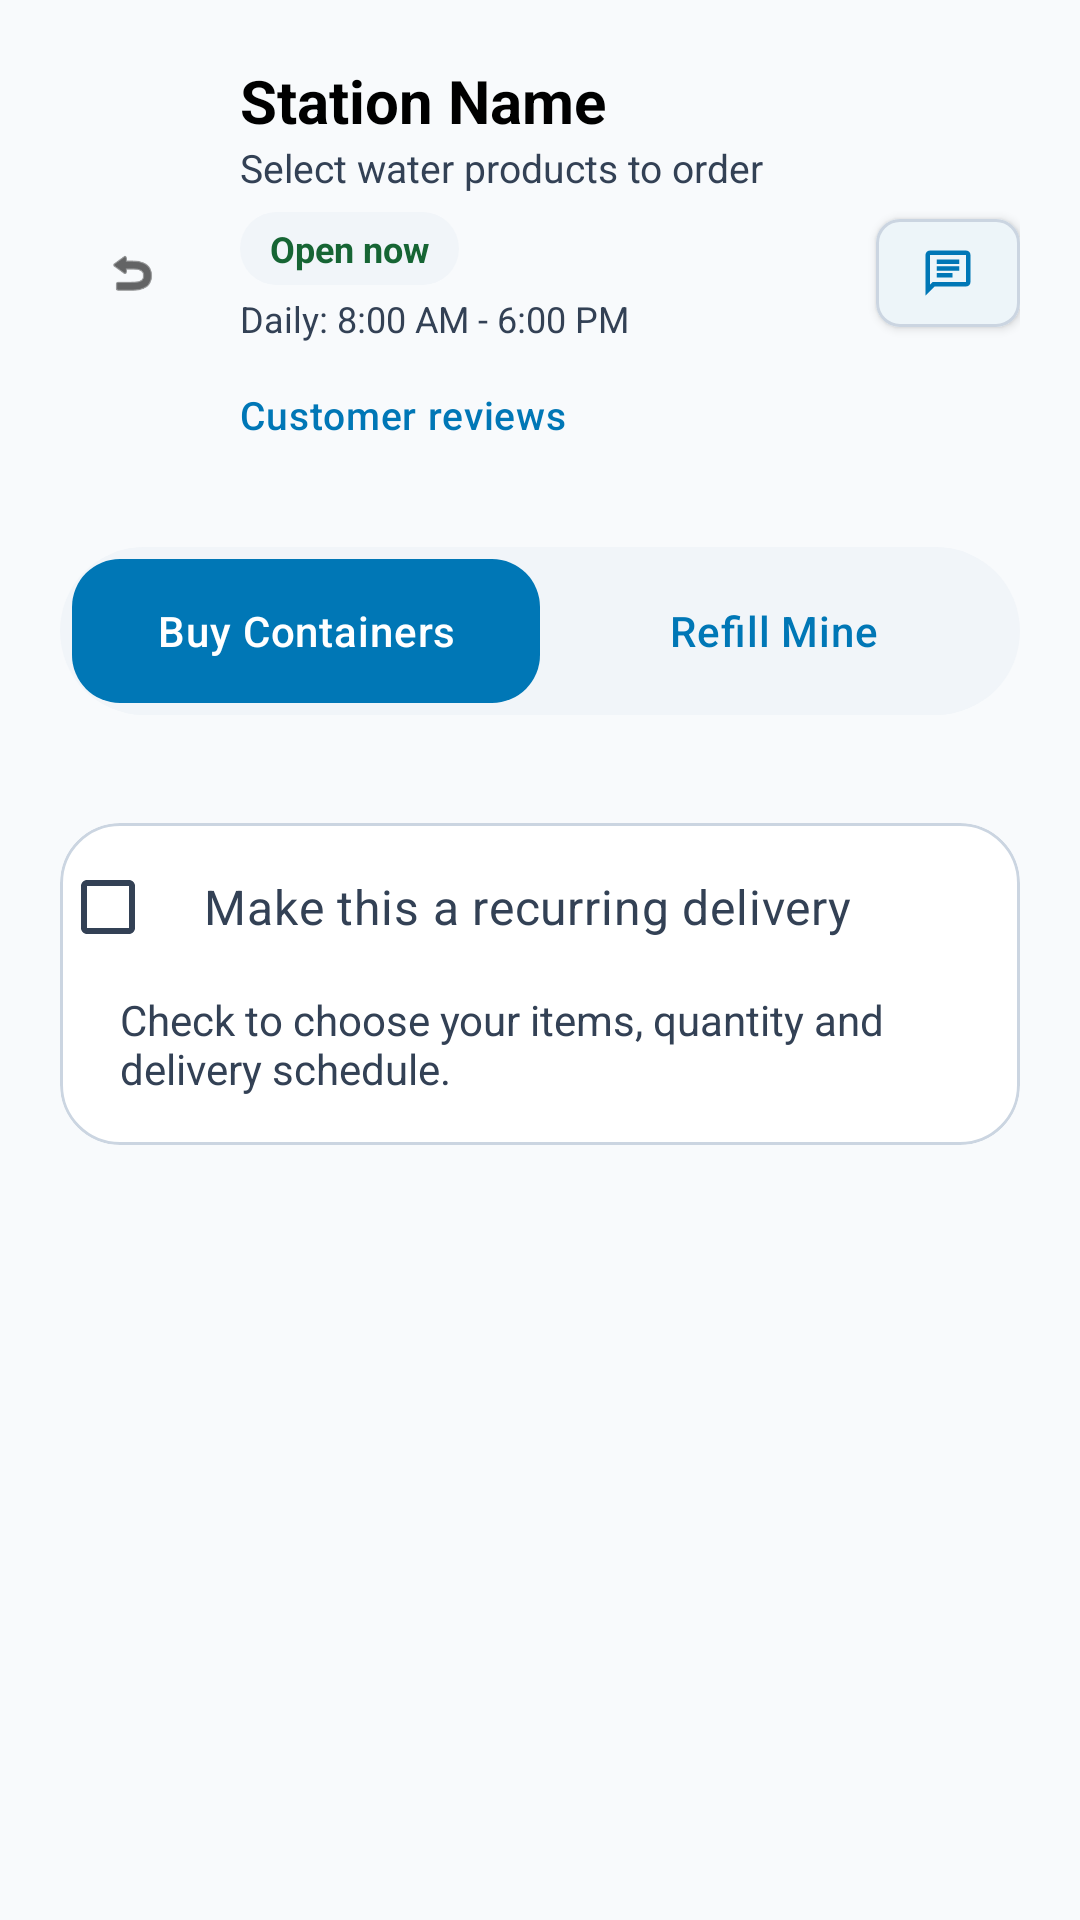

Icons on this 1080w x 1920h Android screen, each with the point to tap as point (x, y):
messages: point (948, 274)
revert: point (132, 273)
